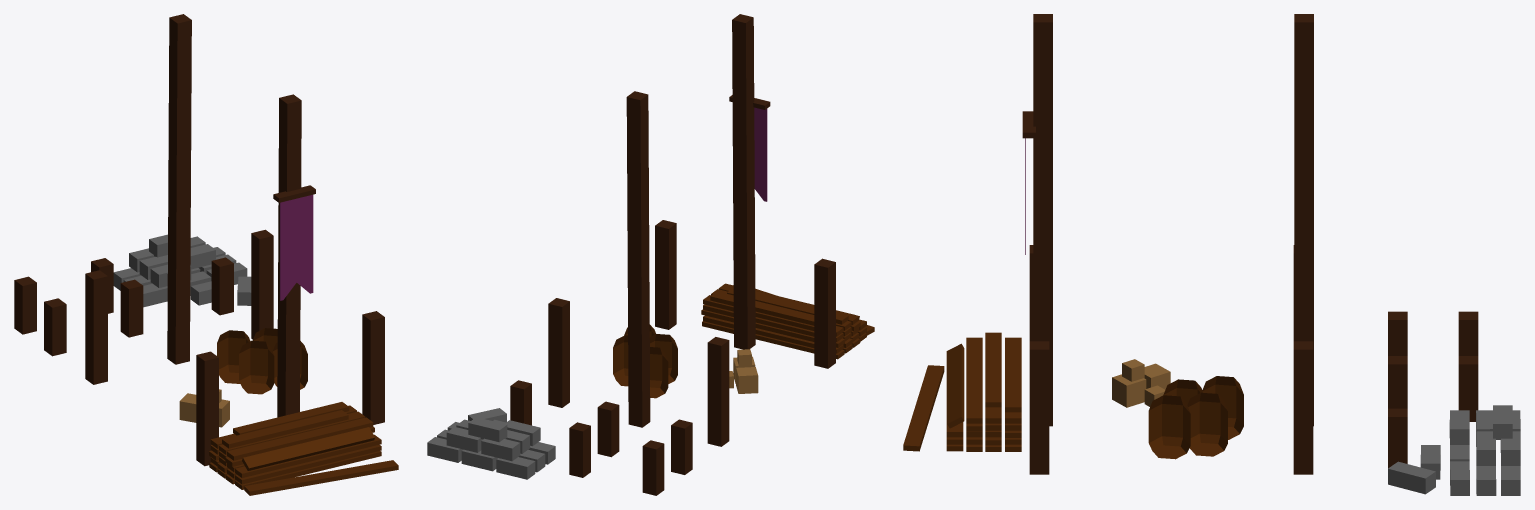
The model's file is TavernBuildPhase1v1.fbx.
The picture shows the model from 3 angles, left to right: view 1: azimuth 30°, elevation 25°; view 2: azimuth 150°, elevation 25°; view 3: azimuth 270°, elevation 25°; orthographic projection. The views are drawn at different scales.
Parts seen in each view (by area): view 1: Cube.2292; view 2: Cube.2292; view 3: Cube.2292.
Part boxes in pixels (x1,y1,x2,y2): Cube.2292: (14,14,398,495); Cube.2292: (427,14,874,495); Cube.2292: (903,14,1520,495).
Bounding box in the file's own units: 104 × 154 × 212.
